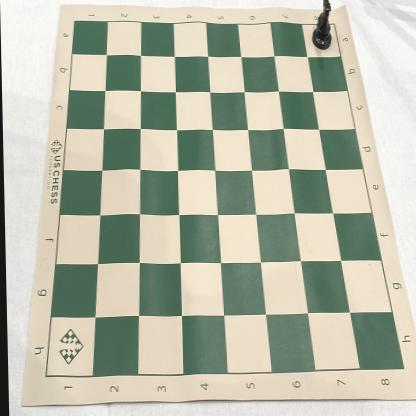black-knight: (310, 0, 334, 51)
